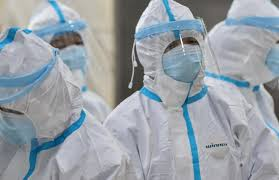mask: (165, 52, 200, 80)
